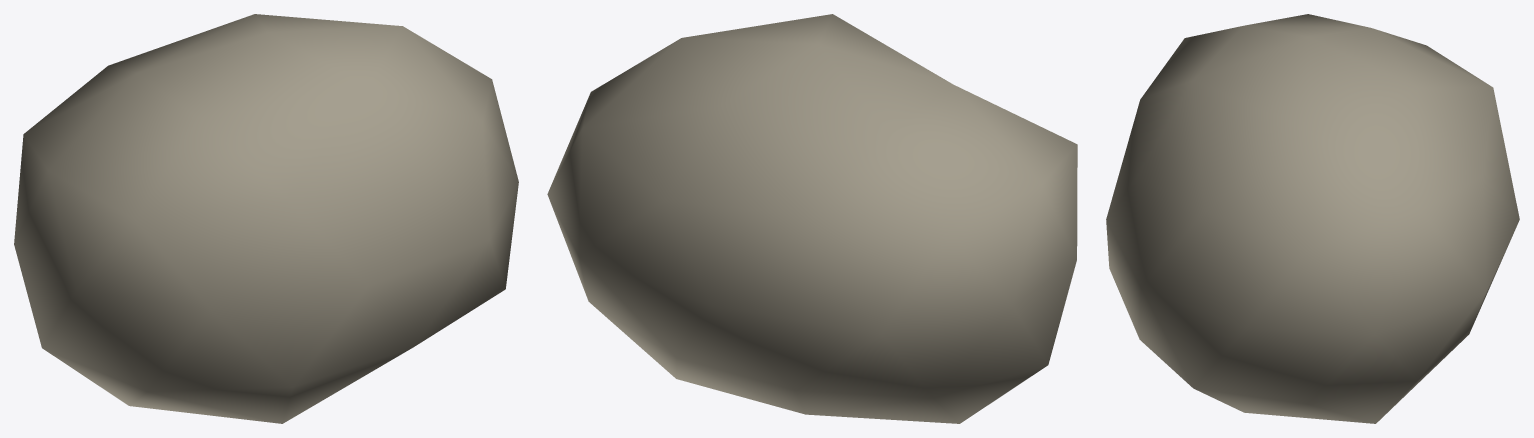
File: SM_Env_Rock_01.fbx
3 renders of one model, left to right at view 1: azimuth 30°, elevation 25°; view 2: azimuth 150°, elevation 25°; view 3: azimuth 270°, elevation 25°, orthographic.
Parts seen in each view (by area): view 1: Rock; view 2: Rock; view 3: Rock.
Part boxes in pixels (x1=…): Rock: x1=14, y1=14, x2=518, y2=423; Rock: x1=547, y1=14, x2=1077, y2=423; Rock: x1=1106, y1=14, x2=1519, y2=423.
Size of what is drawn, in the model's own units: 74.79 by 57.59 by 53.78.
